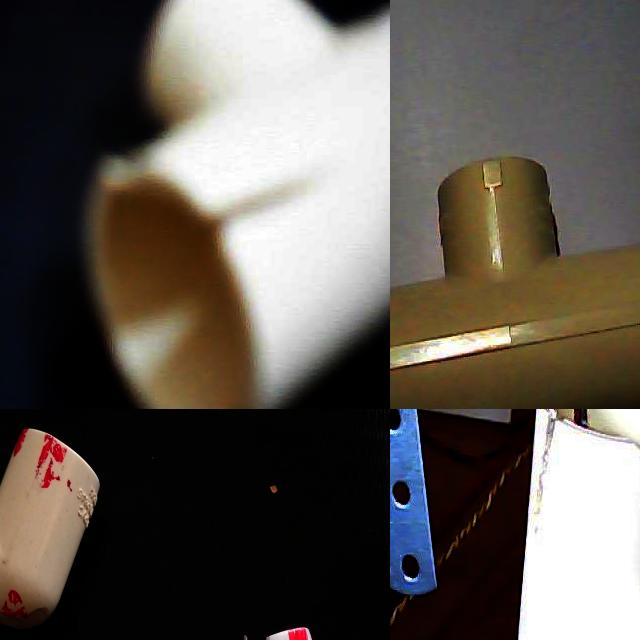Defective: (68, 87, 338, 367), (541, 409, 567, 567), (566, 409, 605, 475)
L Joint: (106, 409, 260, 580)
T Joint: (99, 0, 390, 409), (390, 158, 640, 409), (517, 409, 640, 640)
